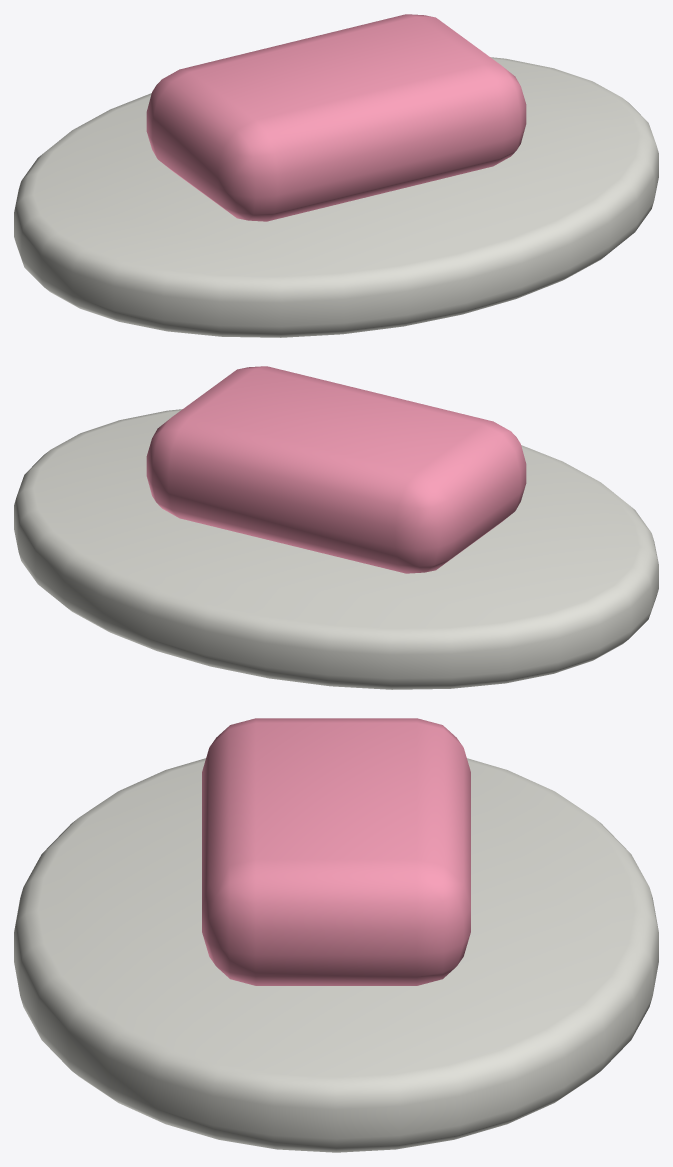
File: soap_dish.glb
3 renders of one model, top to bottom at view 1: azimuth 30°, elevation 25°; view 2: azimuth 150°, elevation 25°; view 3: azimuth 270°, elevation 25°, orthographic. The views are drawn at different scales.
Parts seen in each view (by area): view 1: soap_dish; view 2: soap_dish; view 3: soap_dish.
Part boxes in pixels (left/top/right/bottom): soap_dish: left=14, top=14, right=658, bottom=337; soap_dish: left=14, top=366, right=658, bottom=689; soap_dish: left=14, top=718, right=658, bottom=1152.
Size of the model in its own units: 0.156 by 0.0395 by 0.12.
